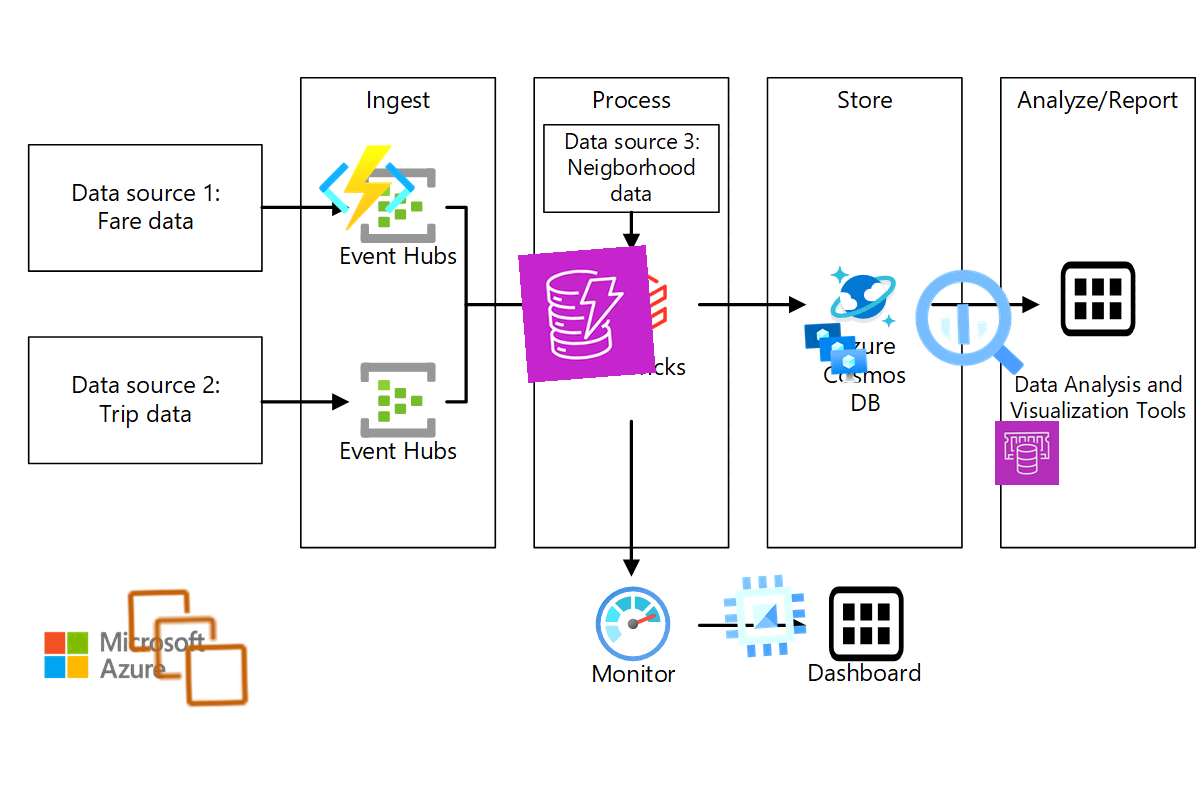aws_amazon_dynamodb: (518, 245, 656, 383)
aws_amazon_elasticache: (994, 420, 1060, 486)
aws_ec2_instances: (122, 582, 254, 714)
azure_function_apps: (318, 139, 416, 237)
azure_vm_scale_sets: (801, 318, 869, 386)
gcp_bigquery: (902, 256, 1036, 390)
gcp_compute_engine: (713, 564, 817, 668)
